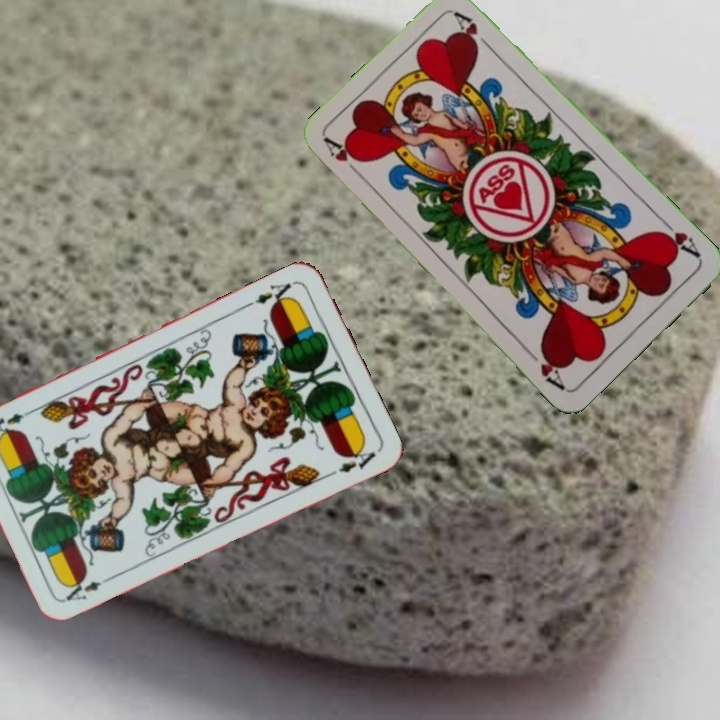EA: (61, 571, 116, 604), (251, 277, 299, 312)
HA: (653, 214, 703, 261), (321, 134, 367, 183)
